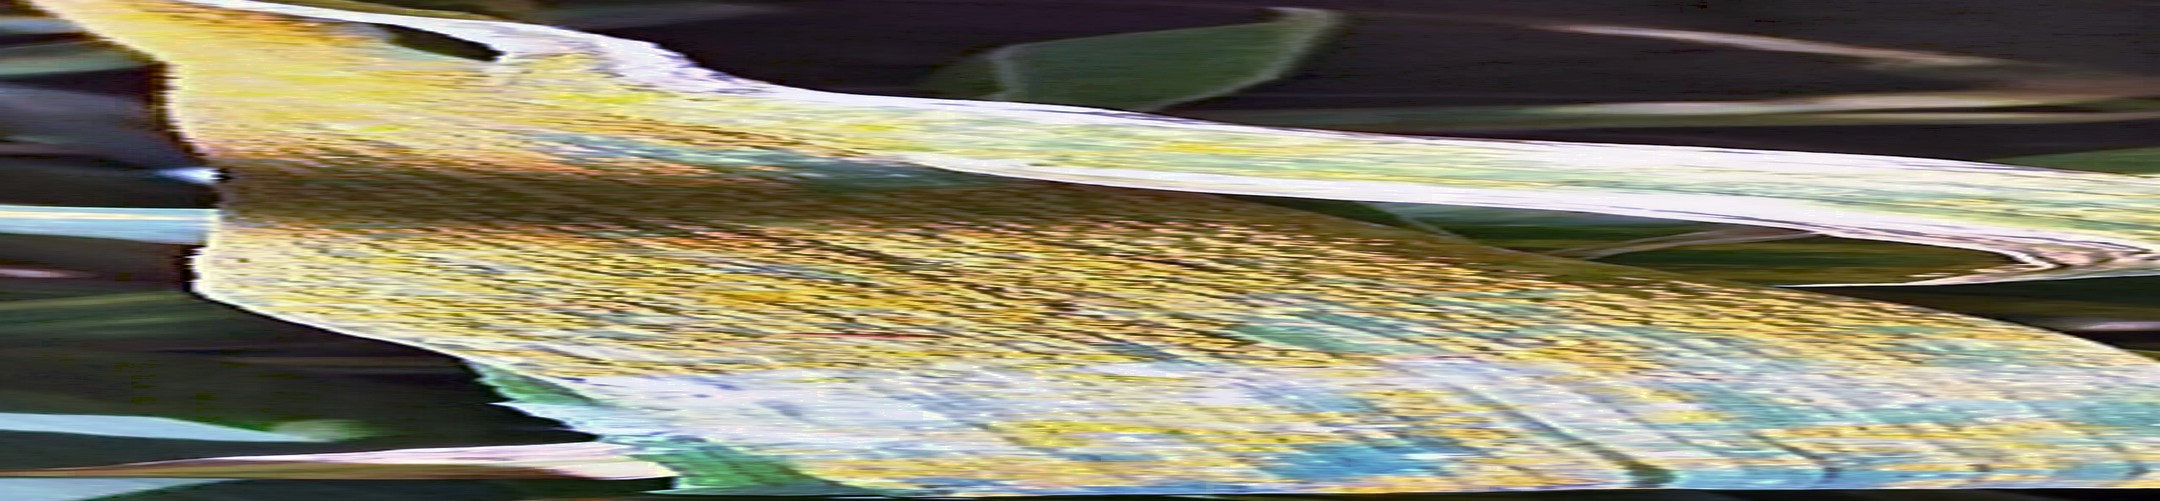Leaf Rust: (624, 156, 1267, 416)
